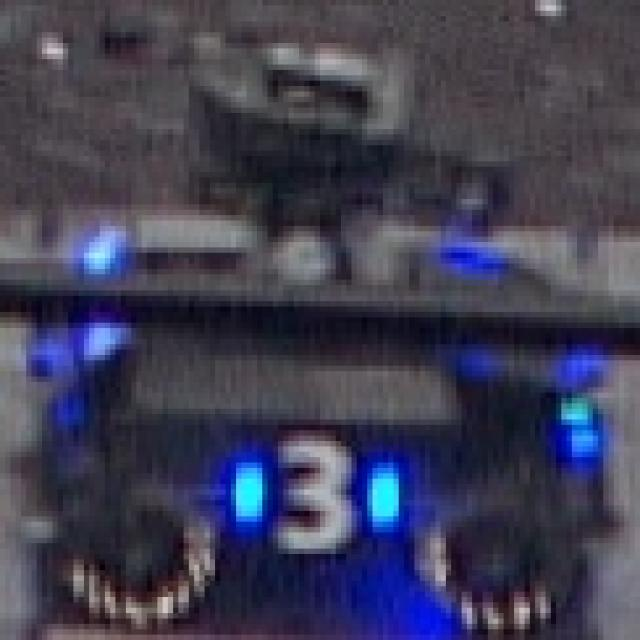B3: (231, 430, 399, 554)
